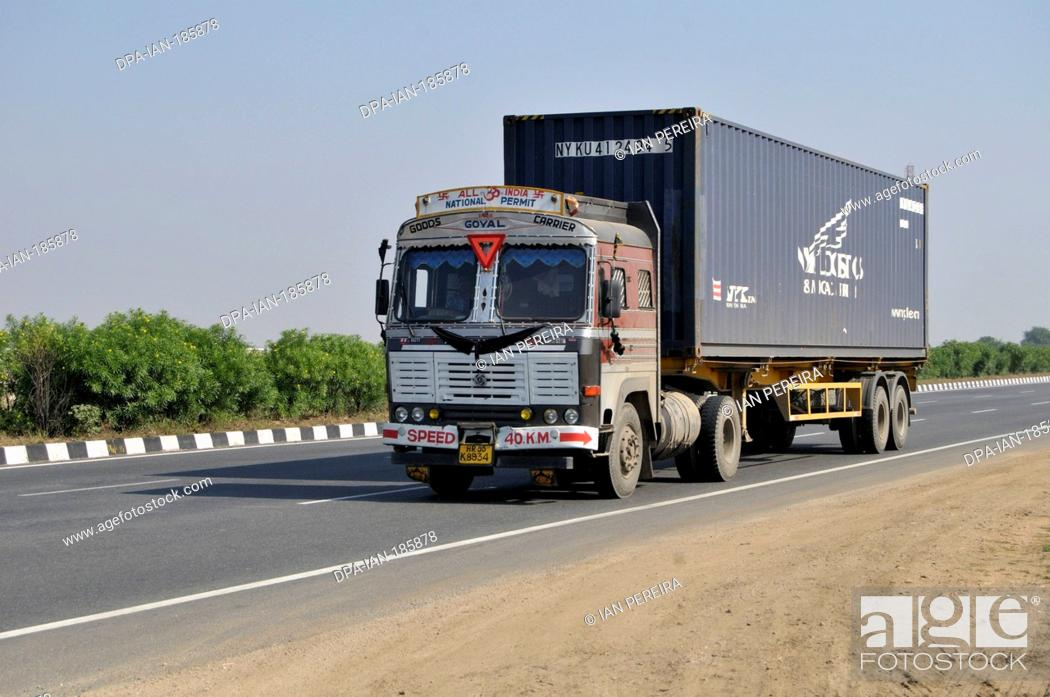truck: (380, 117, 744, 493)
